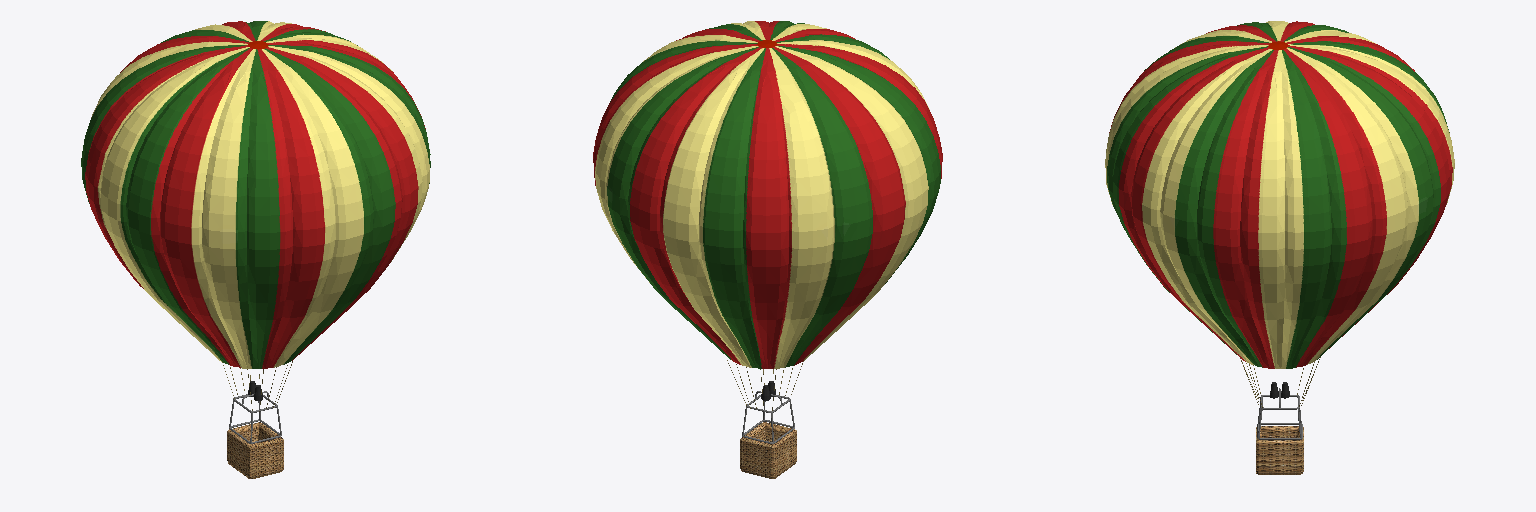
The picture shows the model from 3 angles: view 1: azimuth 30°, elevation 25°; view 2: azimuth 150°, elevation 25°; view 3: azimuth 270°, elevation 25°; orthographic projection.
Visible parts, largest first — view 1: Sphere04, Box03; view 2: Sphere04, Box03; view 3: Sphere04, Box03.
Part boxes in pixels (x1,y1,x2,y2): Sphere04: (81, 21, 430, 368); Box03: (227, 422, 283, 478); Sphere04: (593, 21, 942, 368); Box03: (740, 422, 796, 478); Sphere04: (1105, 21, 1454, 368); Box03: (1256, 426, 1303, 474).
Size of the model in its own units: 47.93 by 64.1 by 47.94.
5 materials, 2 textured.